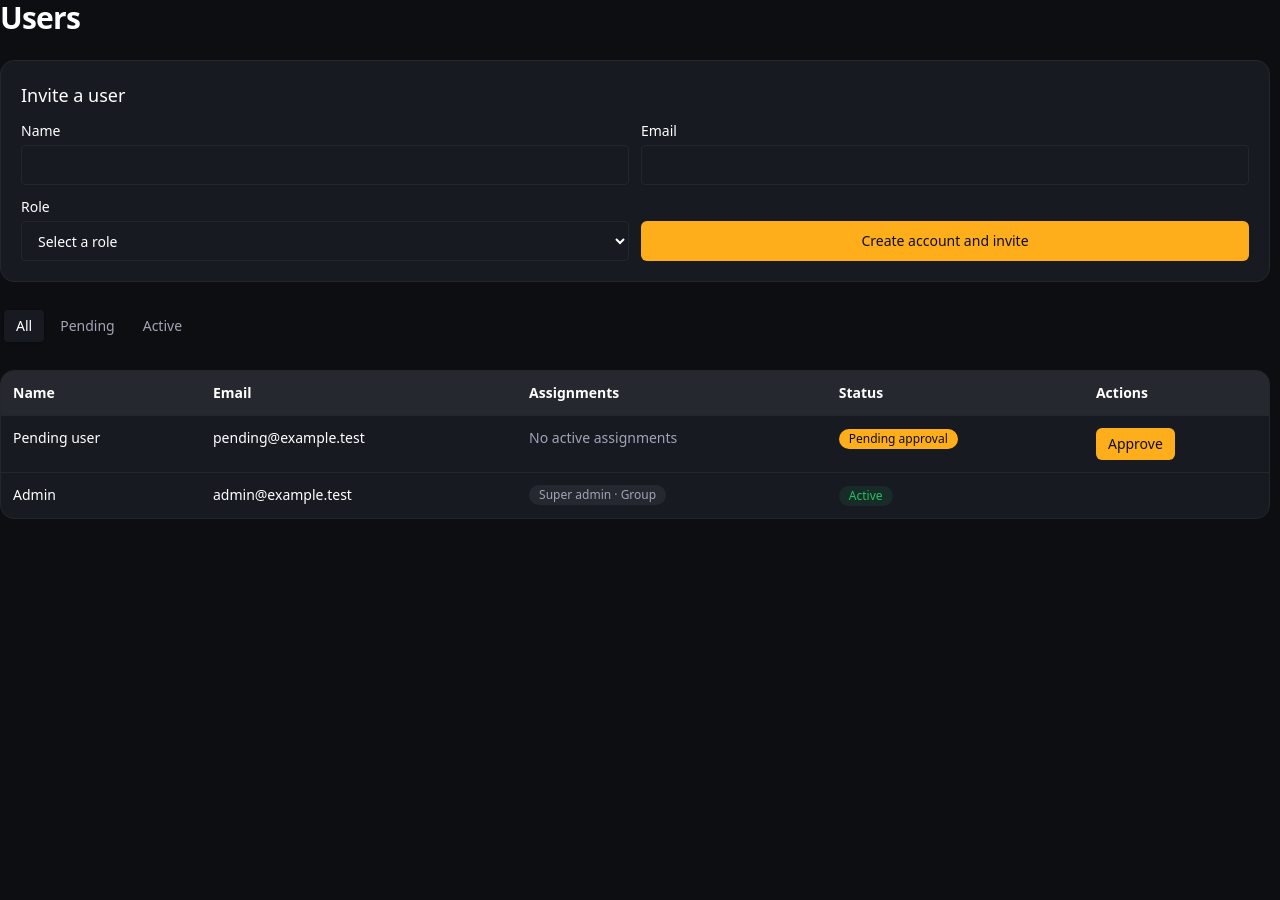
Test: Users page role assignment drawer › renders server field errors instead of a generic request failure
This screenshot has width=1280, height=900.
Click the button "Approve" at (1135, 444), box [1096, 428, 1175, 460]
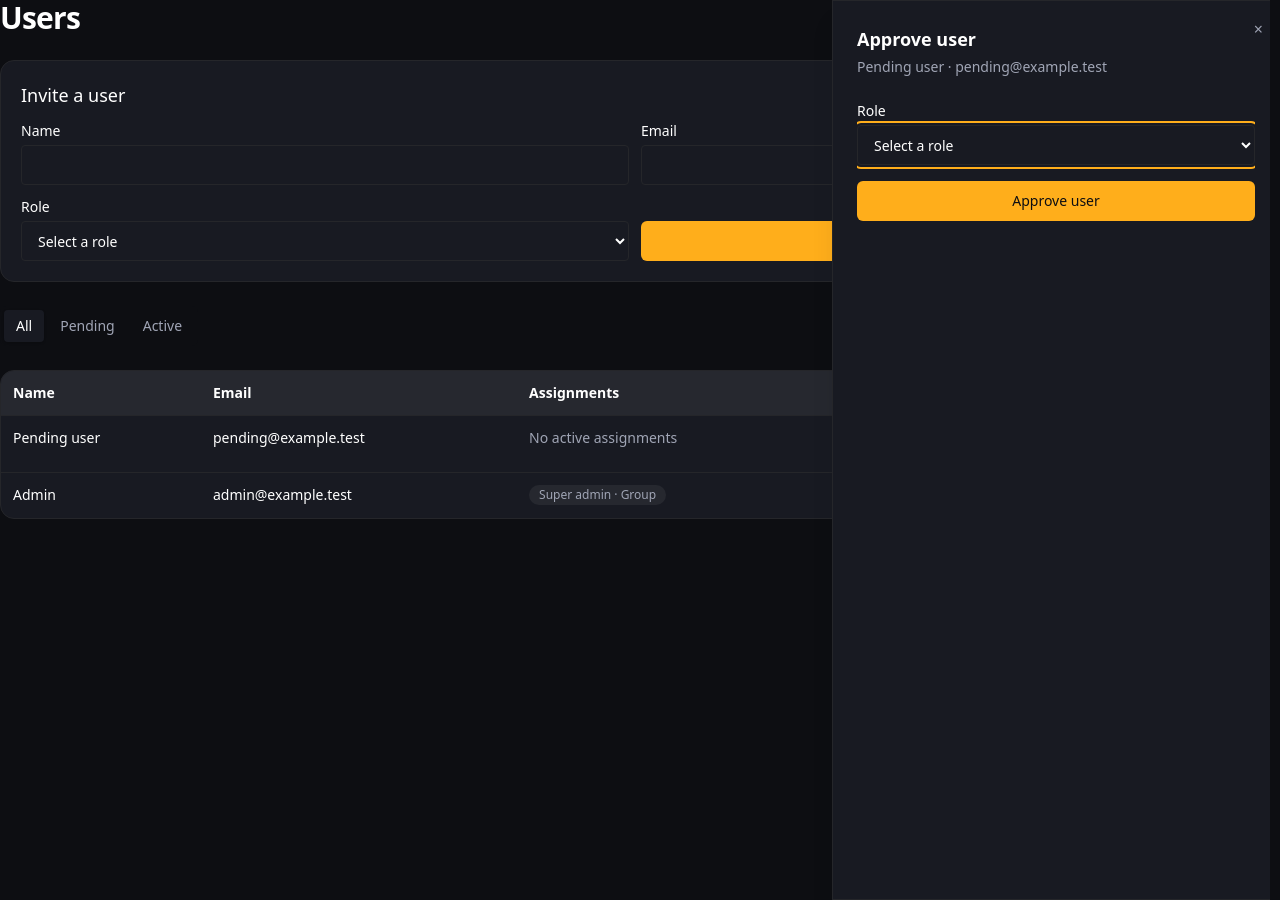
Select "Teacher" in the dropdown labelled "Role" at (1056, 145), box [857, 125, 1255, 165]
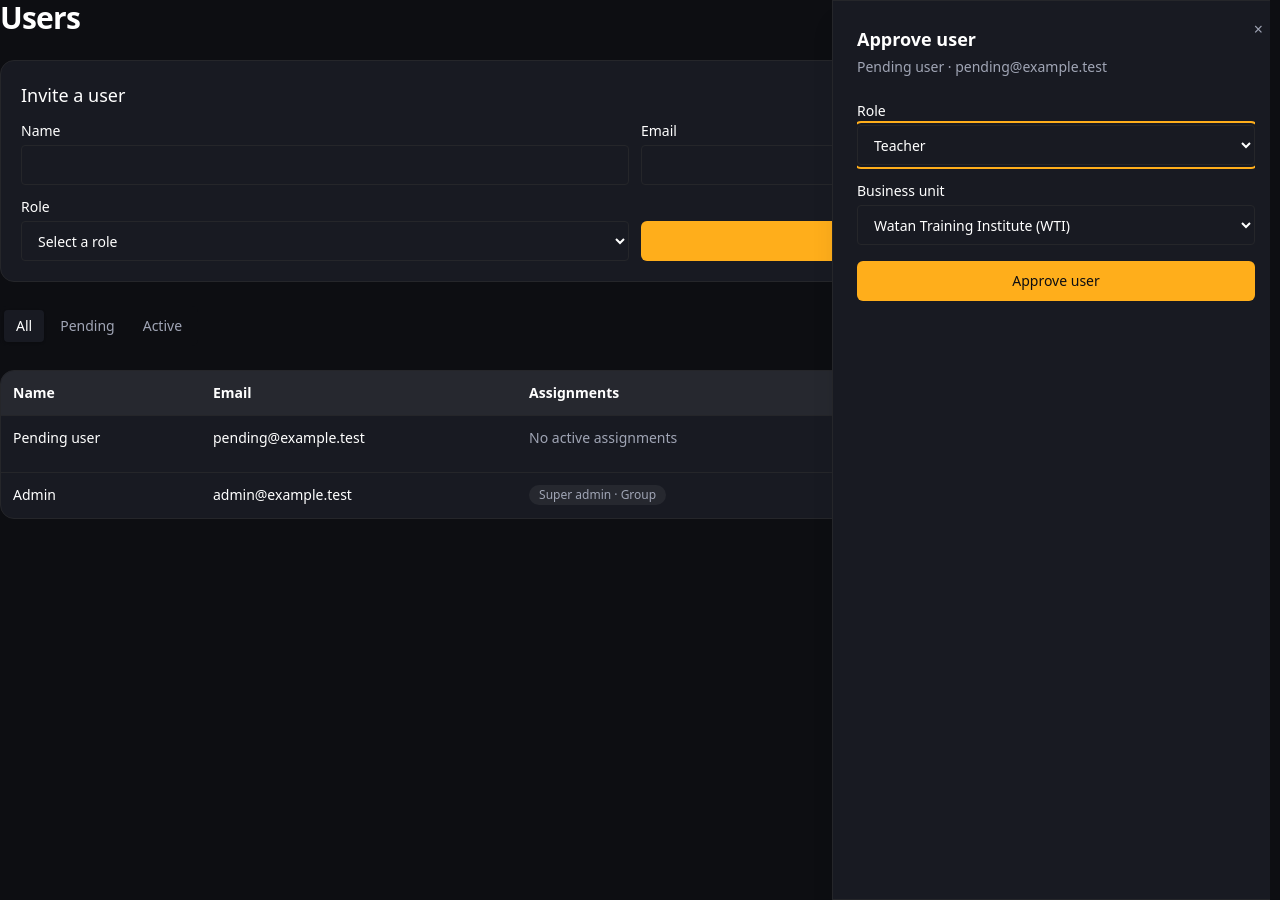
Click the button "Approve user" at (1056, 281), box [857, 261, 1255, 301]
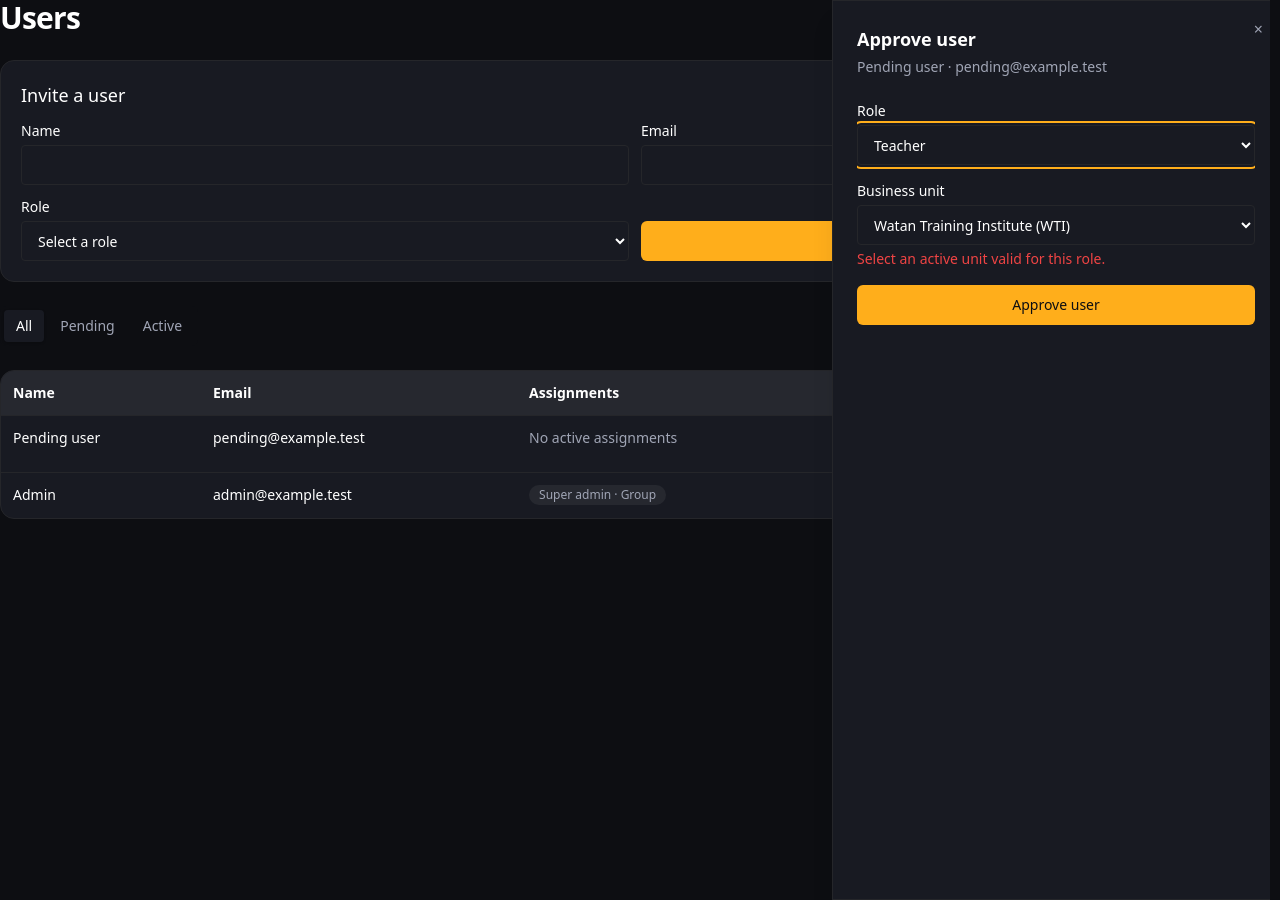
Now the text "Select an active unit valid for this role." is shown, box [857, 249, 1105, 268]
